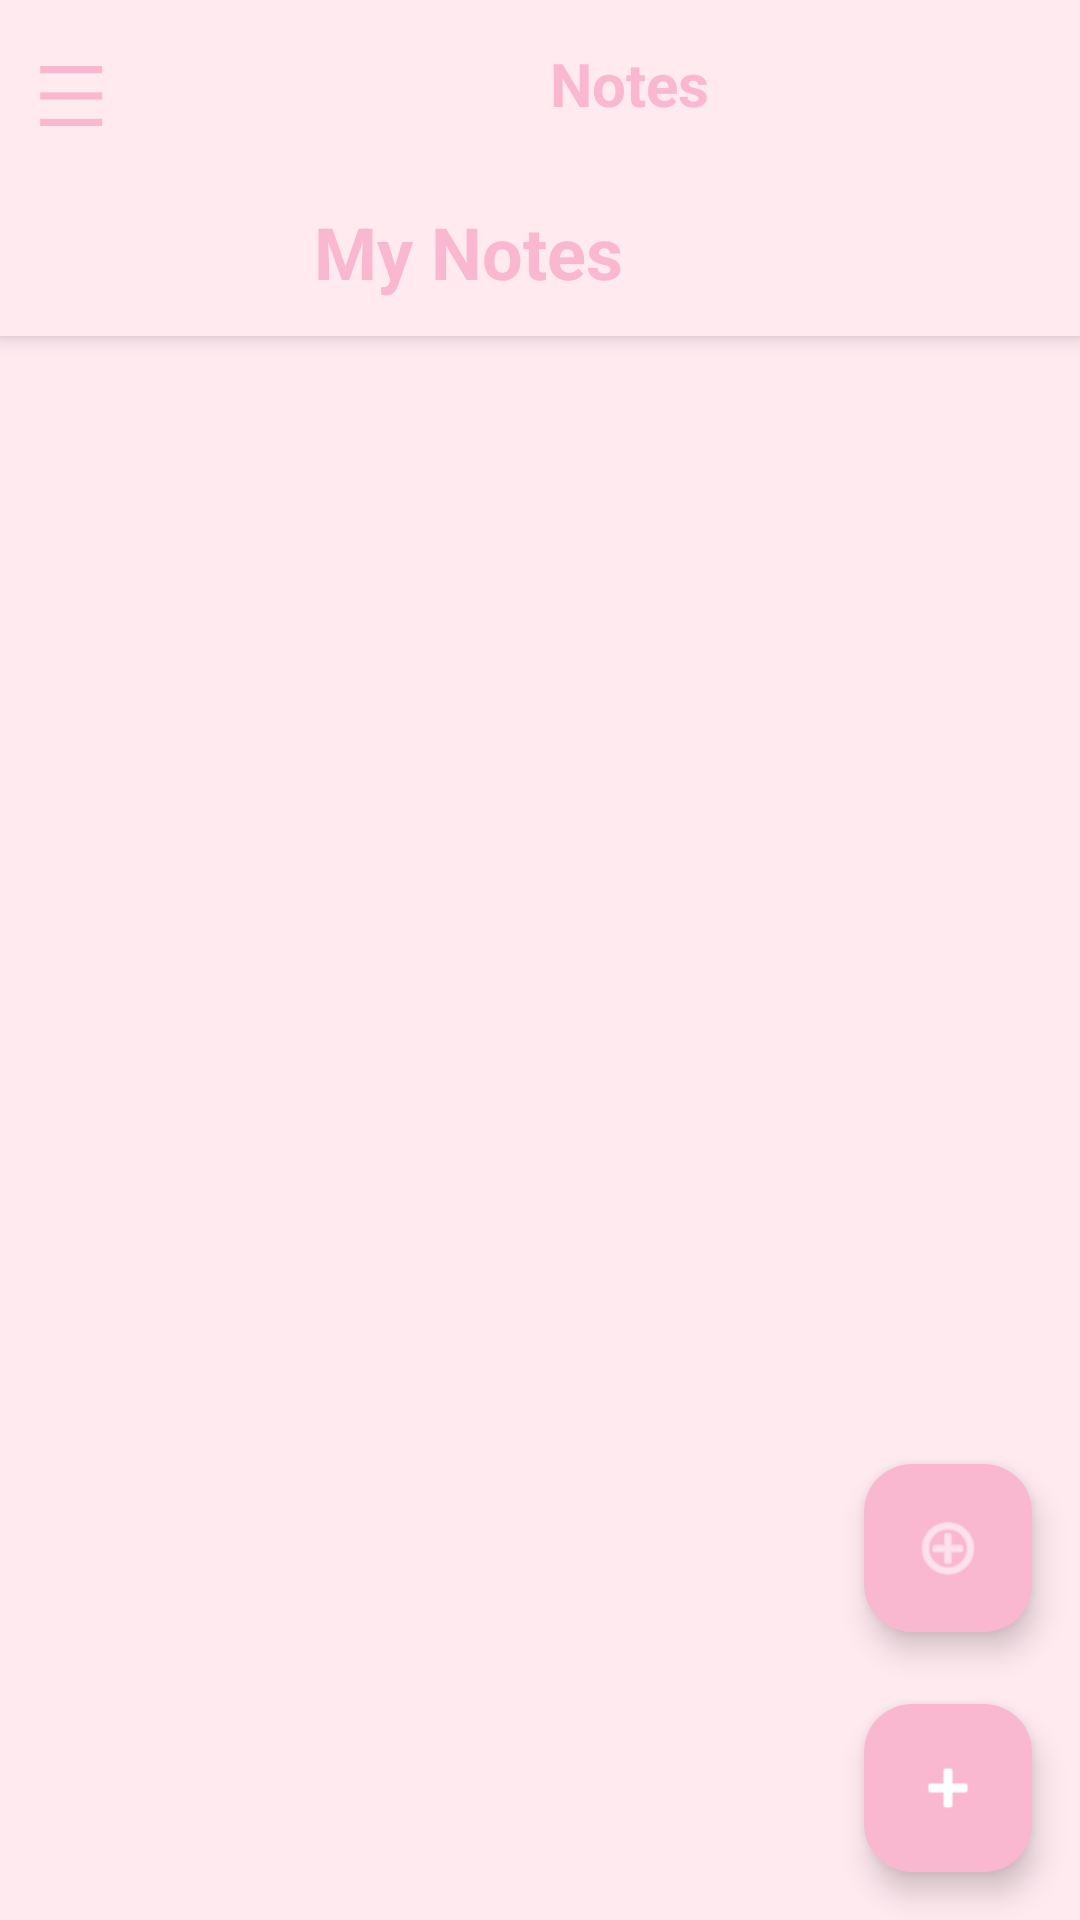

Where icons sit on this 1080*1920 app screen, as (x1=x1, y1=y1, x2=x2, y2=y2):
add: (x1=864, y1=1464, x2=1032, y2=1632), (x1=864, y1=1704, x2=1032, y2=1872)
